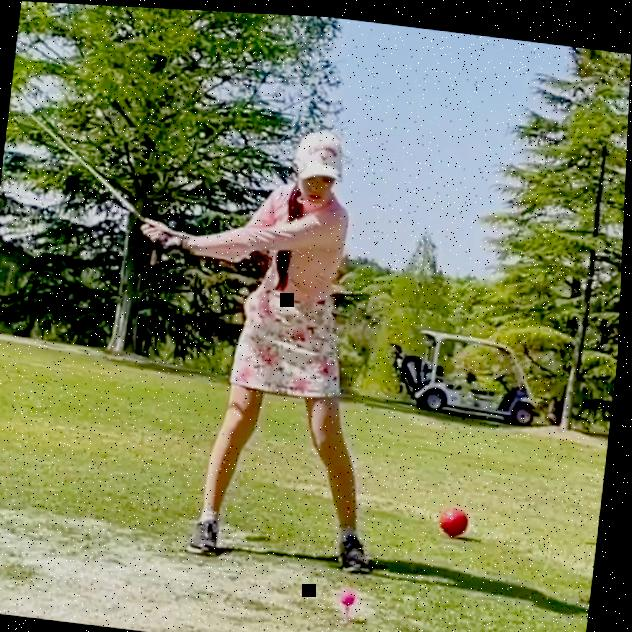ClubHead: (9, 96, 36, 118)
GolfBall: (345, 585, 362, 603)
